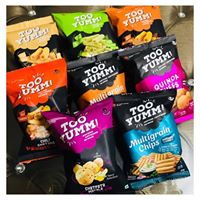plastic: (50, 107, 129, 190), (115, 93, 189, 176), (62, 4, 164, 60), (13, 21, 68, 116), (128, 38, 193, 116), (73, 47, 127, 101)
tooyumm: (59, 118, 104, 145), (124, 103, 165, 124), (143, 45, 174, 72), (18, 77, 55, 99), (17, 24, 51, 44), (85, 62, 112, 87), (71, 13, 110, 28), (123, 10, 153, 28)
wrapper: (9, 72, 78, 148)
